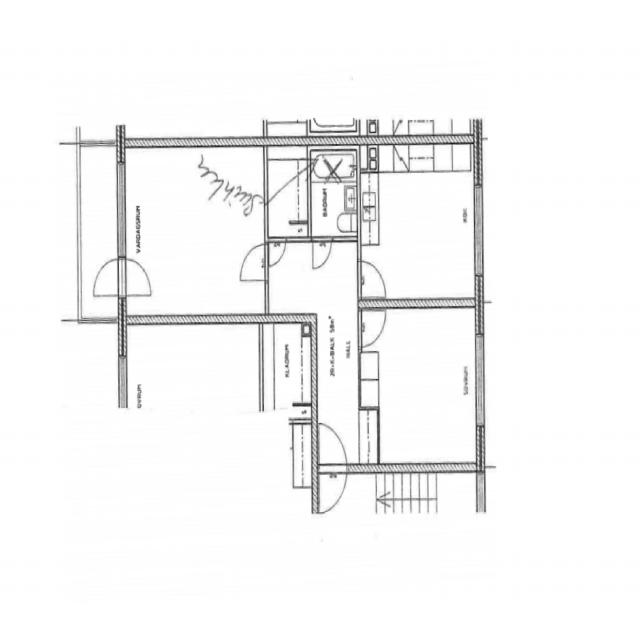door: (320, 464, 348, 514), (320, 423, 348, 473), (117, 260, 150, 296), (92, 260, 125, 296), (240, 244, 268, 280), (358, 310, 386, 346), (358, 261, 386, 297), (313, 237, 331, 268), (269, 236, 286, 266)
